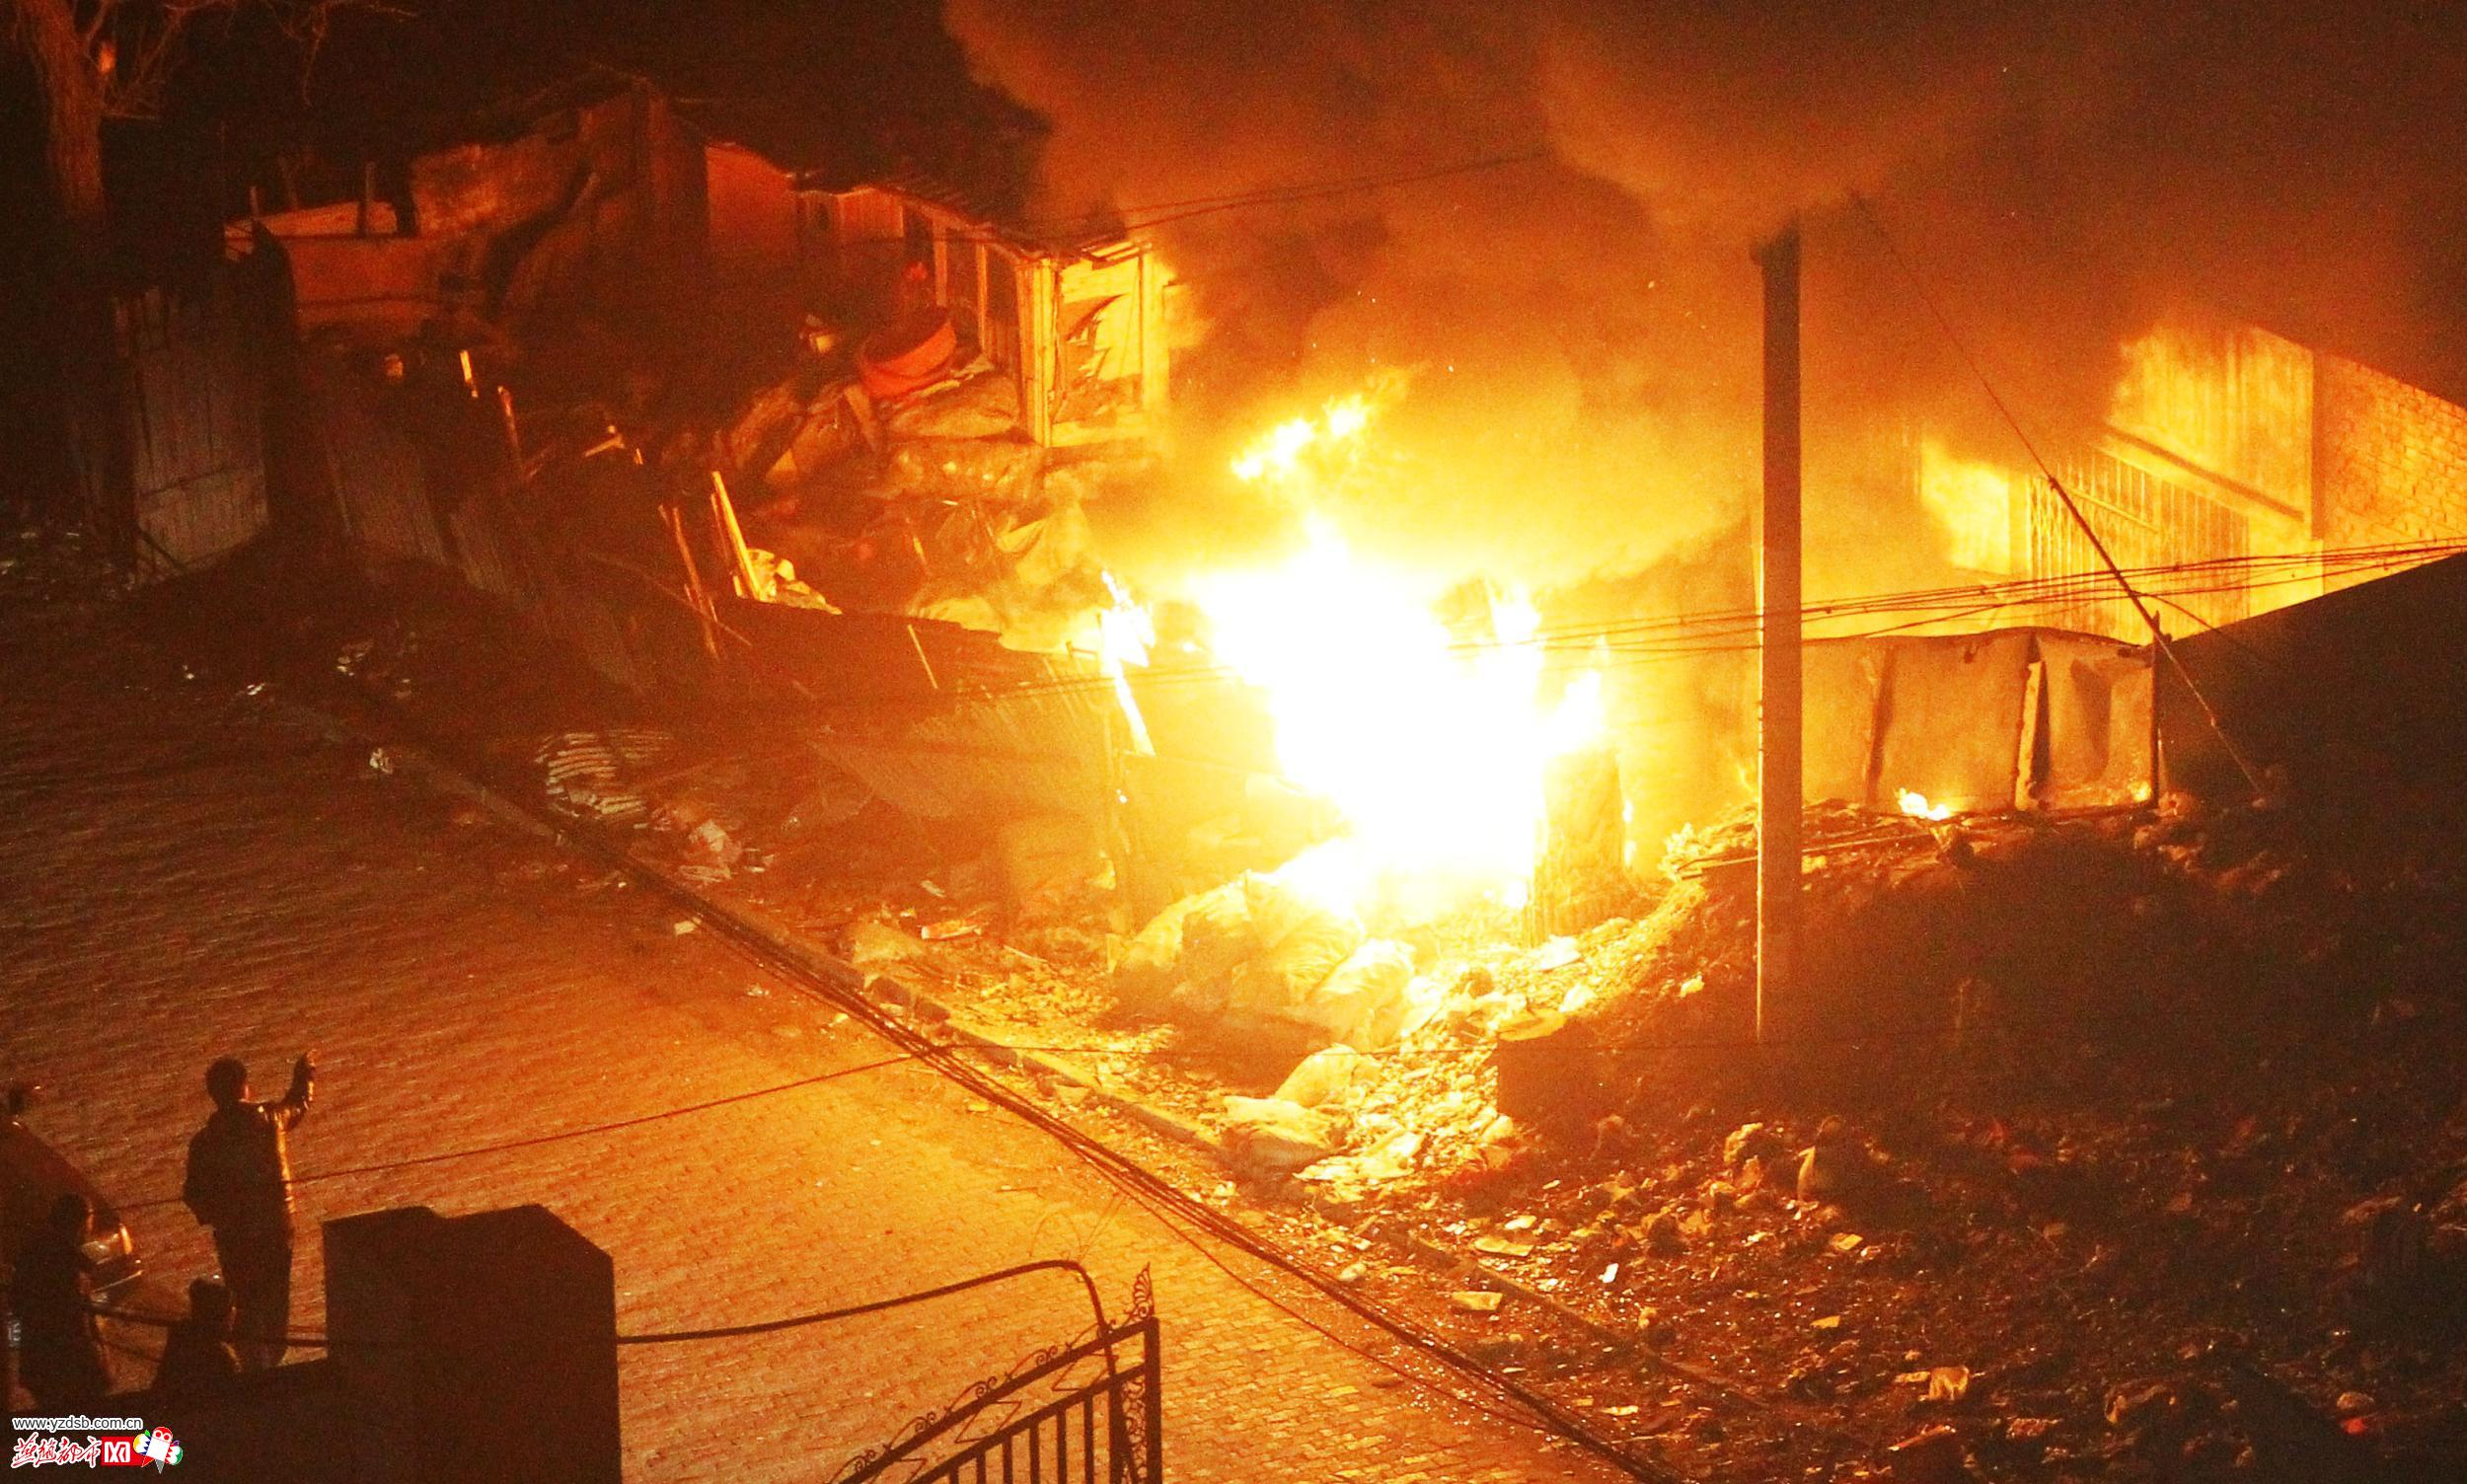fire: (1080, 358, 1697, 999)
